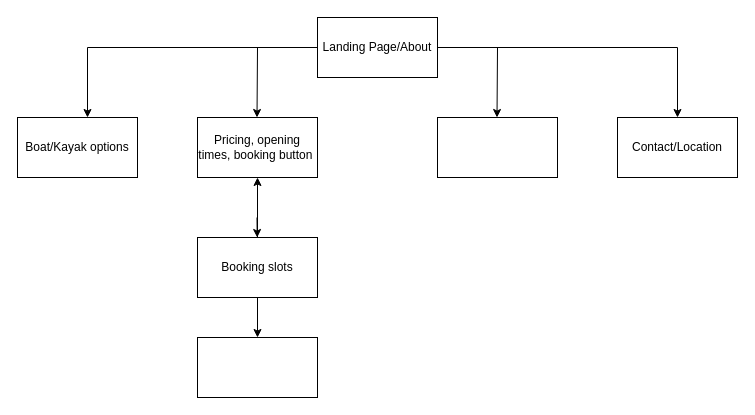
The diagram is 755 pixels wide and 415 high, and some of its shapes have lost their labels. Each missing label, with the box of its shape:
Payment page: (196, 336, 318, 398)
Reception/Boathouse Info: (436, 116, 558, 178)
